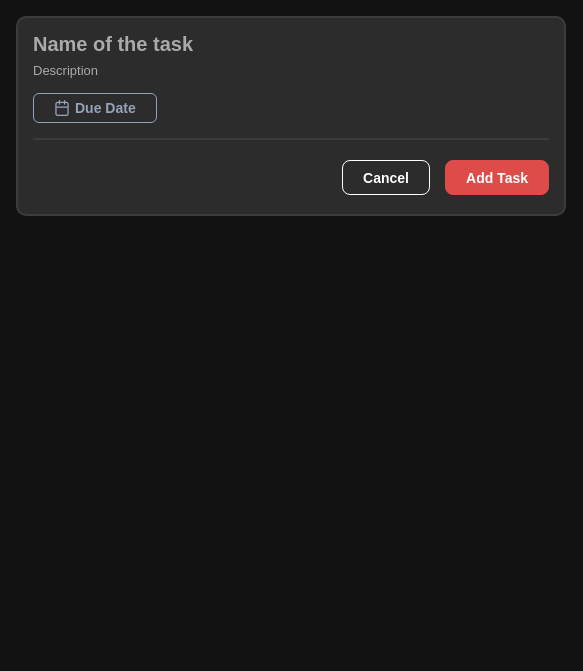
Test: AddTask Component › should display the calendar when the Due Date button is clicked
This screenshot has width=583, height=671.
Click the button "Due Date" at (95,108), box [33,93,157,123]
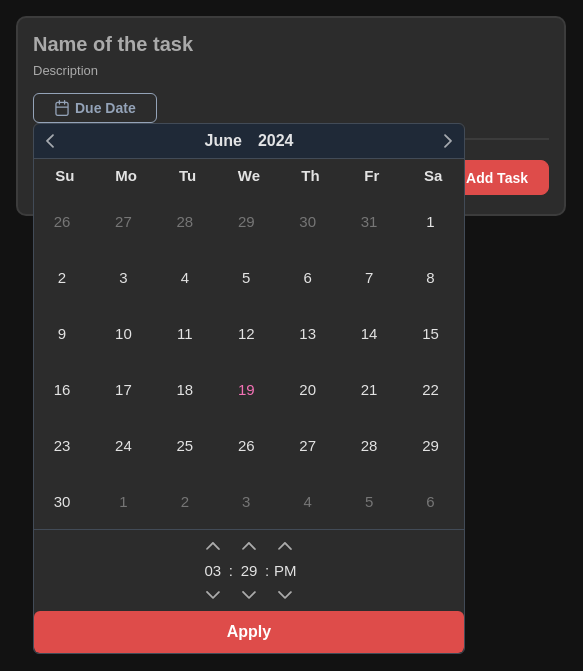
expect the button "Apply" is shown: met, box [227,623,271,640]
